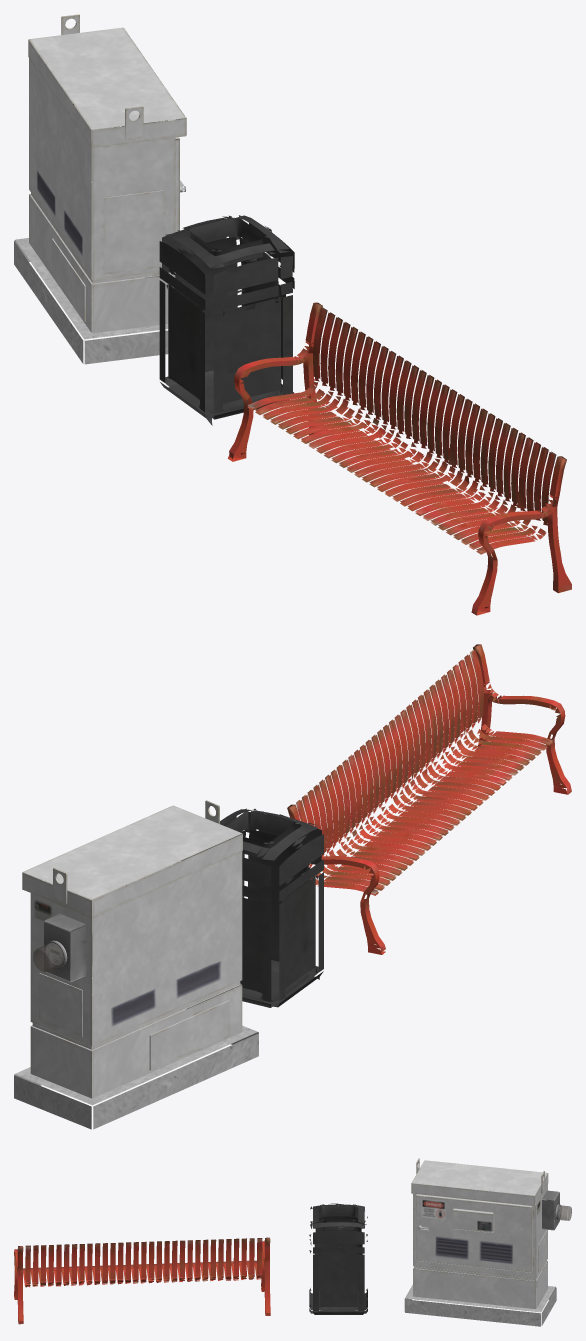
The model's file is user_prop_bench_utility.glb.
The picture shows the model from 3 angles, top to bottom: view 1: azimuth 30°, elevation 25°; view 2: azimuth 150°, elevation 25°; view 3: azimuth 270°, elevation 25°; orthographic projection. The views are drawn at different scales.
Visible parts, largest first — view 1: Utility.001, ParkBenchLong.001, TrashCommercial.001; view 2: Utility.001, ParkBenchLong.001, TrashCommercial.001; view 3: Utility.001, ParkBenchLong.001, TrashCommercial.001.
Boxes of the visible parts, <box> form: Utility.001: <box>14,14,186,364</box>; ParkBenchLong.001: <box>228,302,571,615</box>; TrashCommercial.001: <box>159,215,294,425</box>; Utility.001: <box>14,800,258,1129</box>; ParkBenchLong.001: <box>287,644,571,954</box>; TrashCommercial.001: <box>220,808,323,1007</box>; Utility.001: <box>404,1158,571,1326</box>; ParkBenchLong.001: <box>14,1237,270,1324</box>; TrashCommercial.001: <box>309,1203,367,1314</box>.
Bounding box in the file's own units: 1.02 × 1.65 × 5.97.
3 materials, 3 textured.
